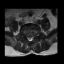CCS_normal: (29, 34, 31, 42)
LFS_stenosis: (33, 32, 35, 38)
LLS_normal: (31, 34, 33, 41)
RFS_severe_stenosis: (24, 33, 27, 39)
RLS_normal: (27, 34, 29, 41)
